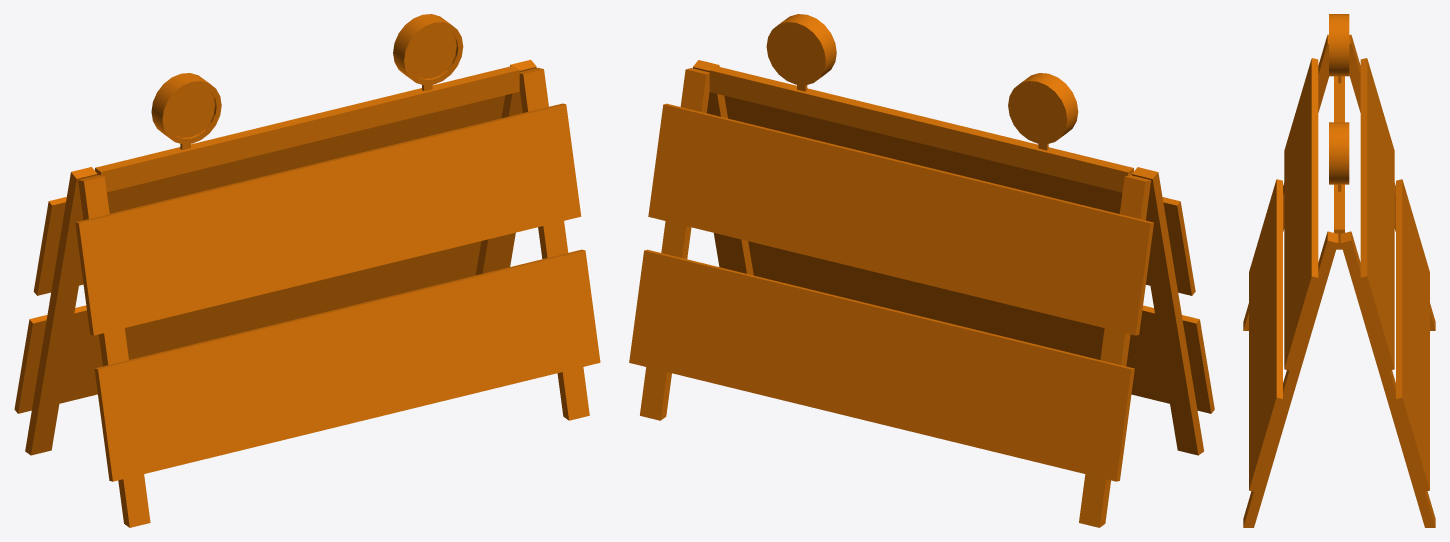
File: Barricade.FBX
3 views of the same model, side by side, from view 1: azimuth 30°, elevation 25°; view 2: azimuth 150°, elevation 25°; view 3: azimuth 270°, elevation 25° (orthographic). The views are drawn at different scales.
Parts seen in each view (by area): view 1: Barricade; view 2: Barricade; view 3: Barricade.
Boxes of the visible parts, left/top/right/bottom form: Barricade: left=14, top=14, right=600, bottom=527; Barricade: left=629, top=14, right=1214, bottom=527; Barricade: left=1243, top=14, right=1435, bottom=527.
Bounding box in the file's own units: 188 × 69.9 × 142.
